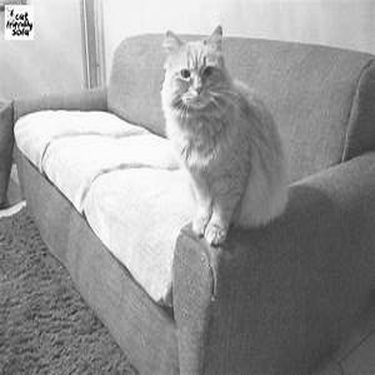cat: (162, 19, 290, 248)
